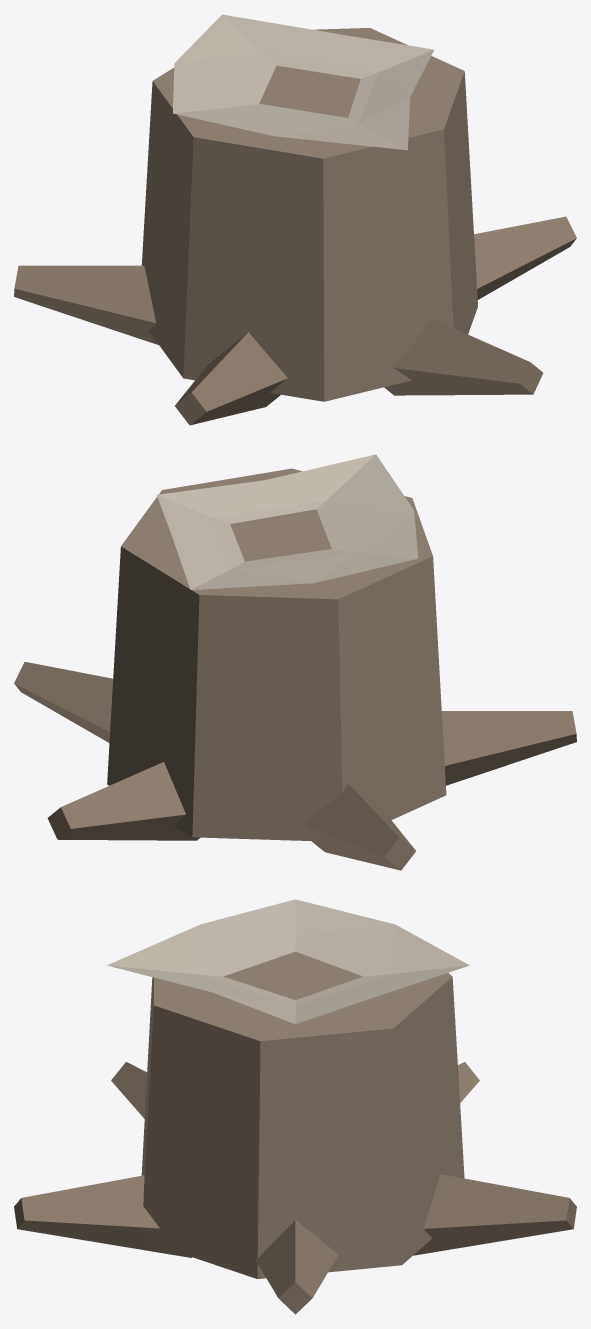
File: stump_v37.glb
The picture shows the model from 3 angles, top to bottom: view 1: azimuth 30°, elevation 25°; view 2: azimuth 150°, elevation 25°; view 3: azimuth 270°, elevation 25°; orthographic projection. The views are drawn at different scales.
Visible parts, largest first — view 1: lod0; view 2: lod0; view 3: lod0.
Part boxes in pixels (x1=…): lod0: x1=14, y1=14, x2=576, y2=425; lod0: x1=14, y1=454, x2=576, y2=870; lod0: x1=14, y1=899, x2=576, y2=1314.
Size of what is drawn, in the model's own units: 0.8812 by 0.5355 by 0.9227.
